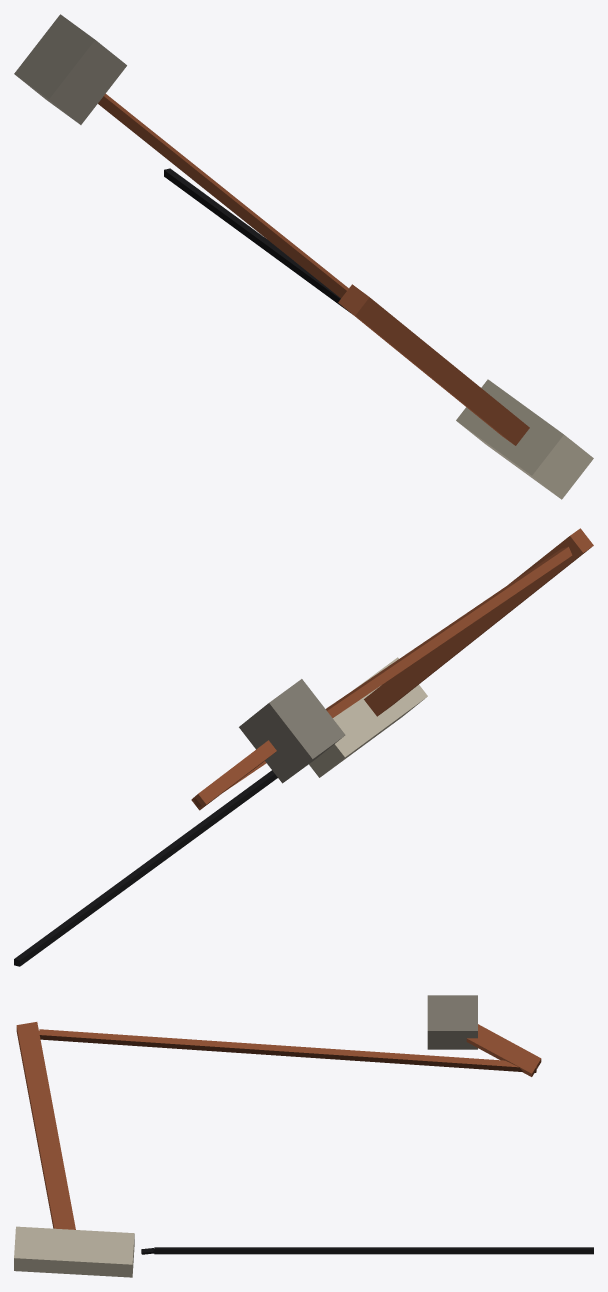
3 views of the same model, one above another, from view 1: azimuth 30°, elevation 25°; view 2: azimuth 150°, elevation 25°; view 3: azimuth 270°, elevation 25° (orthographic). The views are drawn at different scales.
Parts seen in each view (by area): view 1: t00_g29_p10; view 2: t00_g29_p10; view 3: t00_g29_p10.
Part boxes in pixels (x1,y1,x2,y2): t00_g29_p10: (14, 14, 593, 499); t00_g29_p10: (14, 528, 593, 966); t00_g29_p10: (14, 995, 593, 1277).
Bounding box in the file's own units: 10.48 × 11.38 × 27.6.
